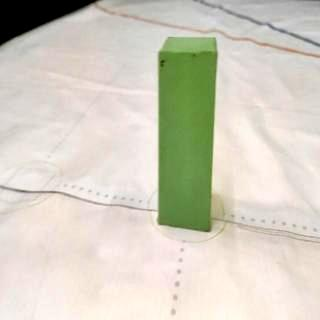greenbox: (154, 33, 220, 235)
